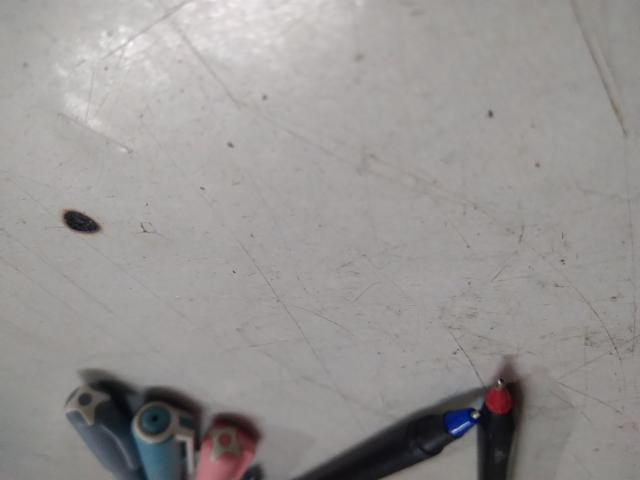PEN: (373, 6, 581, 105), (159, 4, 358, 78), (111, 4, 166, 114)
